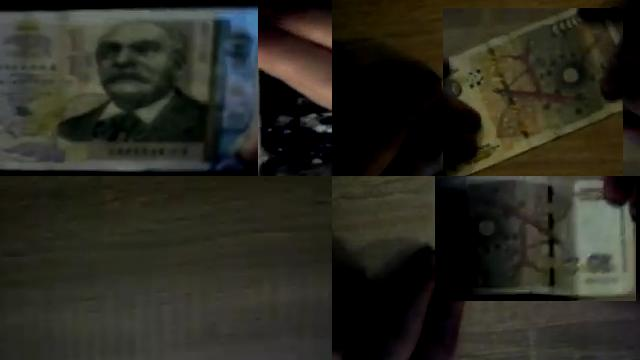10leva: (0, 8, 258, 176), (0, 34, 244, 176), (443, 8, 623, 176), (435, 176, 636, 301)
